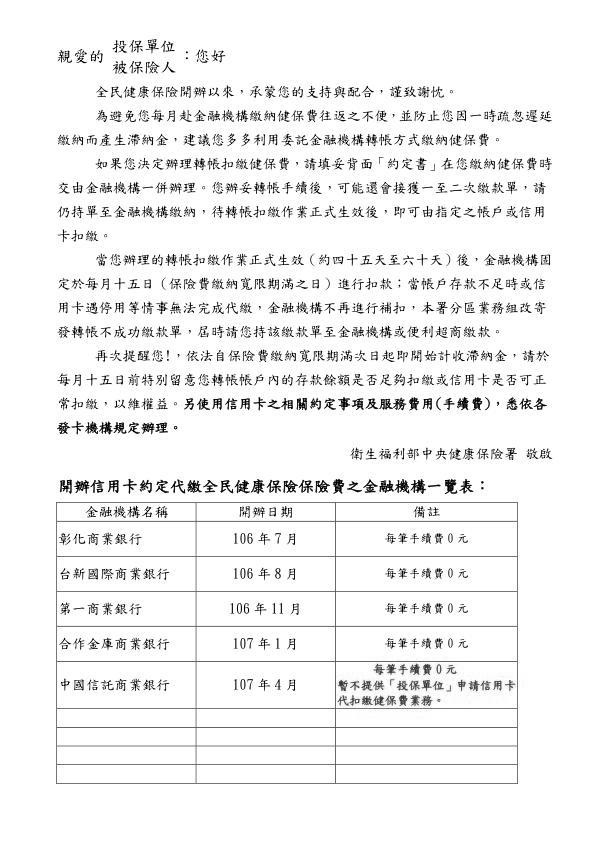table: (51, 499, 522, 792)
text: (54, 248, 555, 340), (54, 154, 555, 244), (54, 347, 552, 435), (46, 107, 558, 148), (55, 473, 486, 497), (90, 80, 462, 102), (50, 38, 232, 77), (347, 441, 552, 466)
